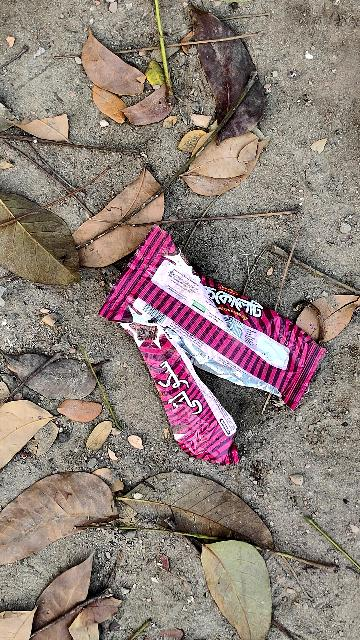packet: (98, 227, 334, 427)
